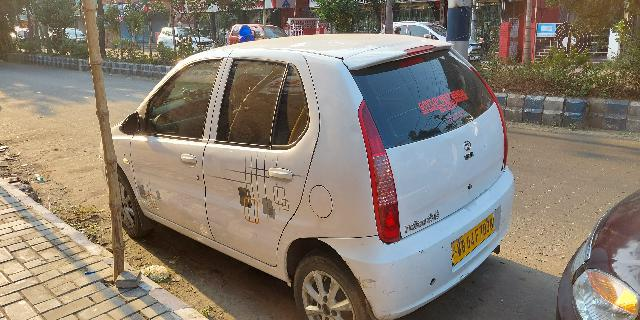Car: (109, 29, 518, 318)
